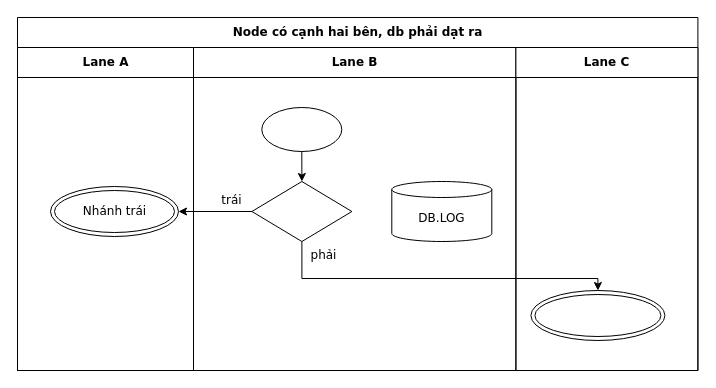
Some shapes in this 716 by 388 pixel diagram are drawn without their labels. The centre of each missing label's shape, as x and y in pixels:
"Nhánh phải" goes at (597,315).
"Rẽ?" goes at (301,211).
"Vào" goes at (301,129).
